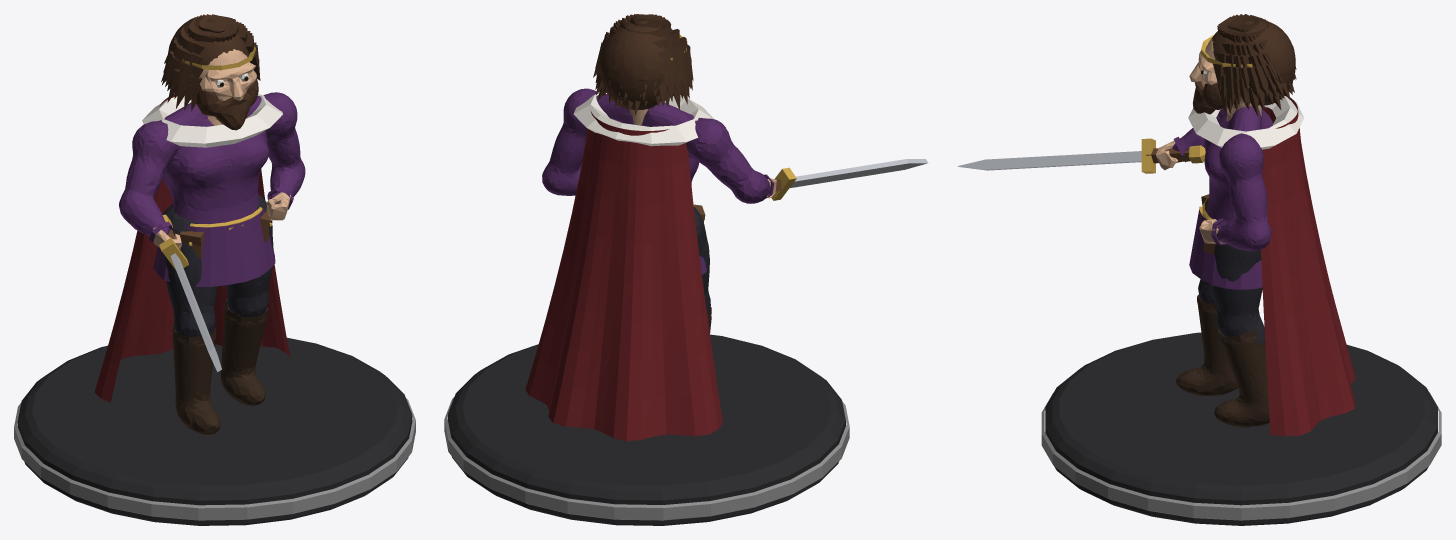
File: noble.glb
3 views of the same model, side by side, from view 1: azimuth 30°, elevation 25°; view 2: azimuth 150°, elevation 25°; view 3: azimuth 270°, elevation 25° (orthographic).
Parts seen in each view (by area): view 1: noble; view 2: noble; view 3: noble.
Boxes of the visible parts, x1,y1,x2,y2 form: noble: (14, 14, 415, 525); noble: (444, 14, 928, 525); noble: (957, 14, 1441, 525).
Size of the model in its own units: 0.856 by 0.994 by 1.03.
